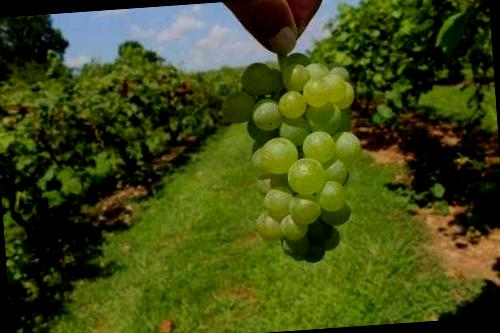Grape Unripe: (213, 40, 378, 269)
